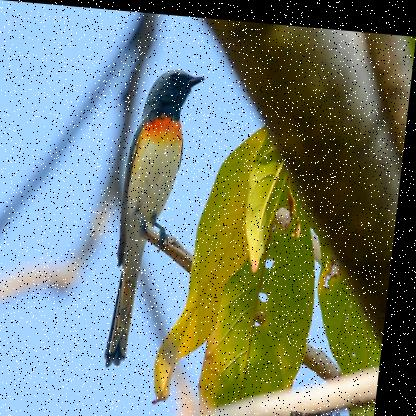Burung: (111, 62, 207, 369)
